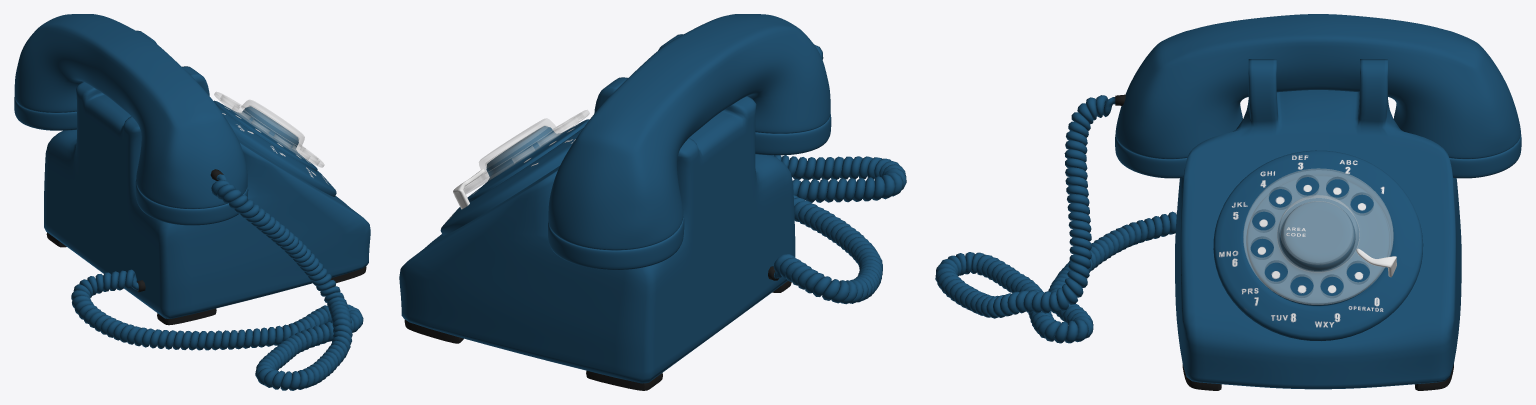
Rendered from telephone.glb.
The picture shows the model from 3 angles, left to right: view 1: azimuth 30°, elevation 25°; view 2: azimuth 150°, elevation 25°; view 3: azimuth 270°, elevation 25°; orthographic projection. The views are drawn at different scales.
Visible parts, largest first — view 1: Phone, Handle, Wire, Numberpad, Dial, Feet.001; view 2: Phone, Handle, Wire, Numberpad, Dial, Feet.001; view 3: Phone, Handle, Numberpad, Wire, Dial, Feet.001.
Part boxes in pixels (bbox=[...]): Phone: bbox=[44, 30, 370, 318]; Handle: bbox=[14, 14, 248, 225]; Wire: bbox=[71, 169, 363, 390]; Numberpad: bbox=[213, 100, 336, 196]; Dial: bbox=[214, 92, 324, 167]; Feet.001: bbox=[46, 232, 366, 325]; Phone: bbox=[399, 34, 795, 383]; Handle: bbox=[548, 14, 831, 269]; Wire: bbox=[768, 44, 906, 304]; Numberpad: bbox=[440, 119, 589, 235]; Dial: bbox=[463, 110, 589, 194]; Feet.001: bbox=[404, 281, 791, 390]; Phone: bbox=[1175, 59, 1461, 389]; Handle: bbox=[1115, 14, 1521, 178]; Numberpad: bbox=[1213, 150, 1423, 340]; Wire: bbox=[935, 94, 1176, 343]; Dial: bbox=[1243, 168, 1393, 304]; Feet.001: bbox=[1182, 364, 1453, 390].
Bounding box in the file's own units: 11.11 × 8.29 × 16.61.
6 materials, 1 textured.
